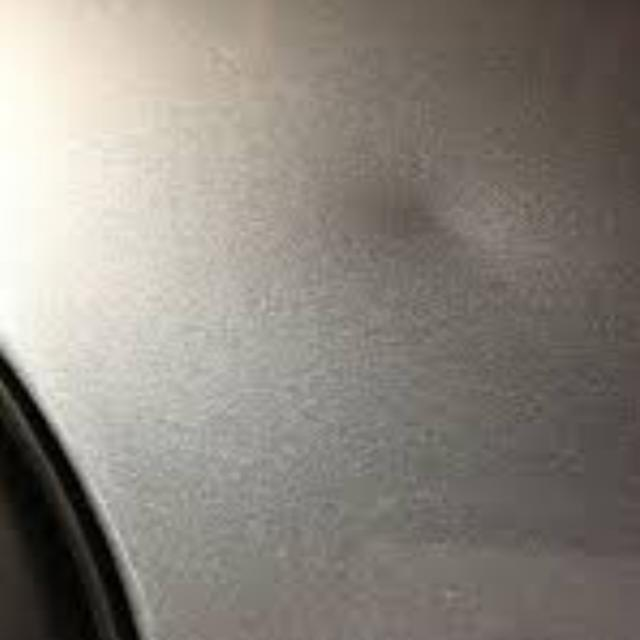dents: (321, 141, 546, 312)
